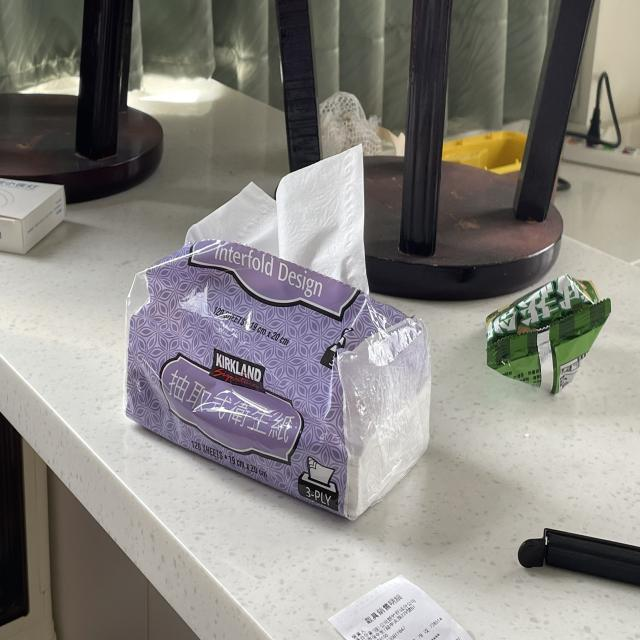tissue: (117, 133, 446, 523)
